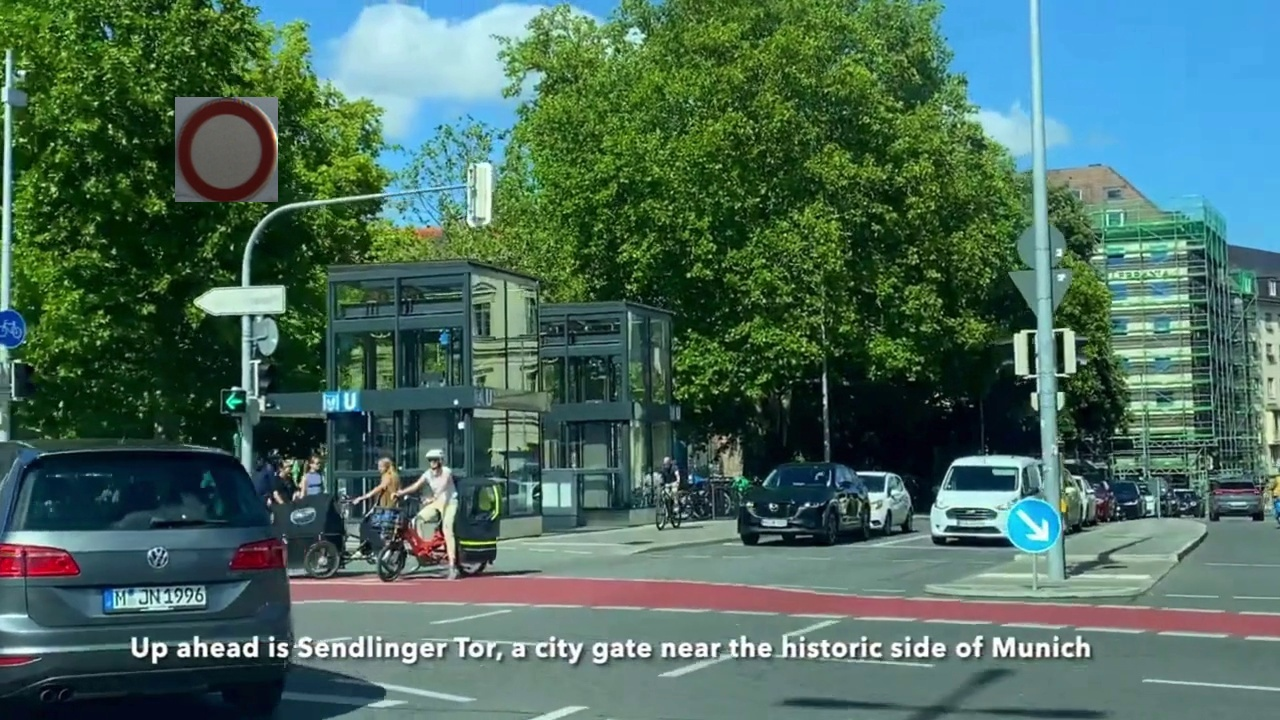No vehicles: (175, 97, 278, 202)
